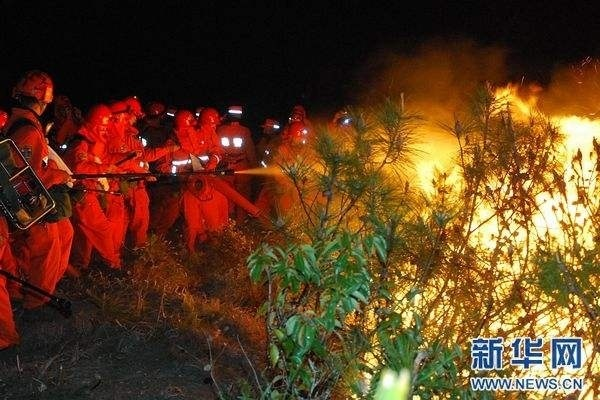fire: (398, 78, 600, 356)
